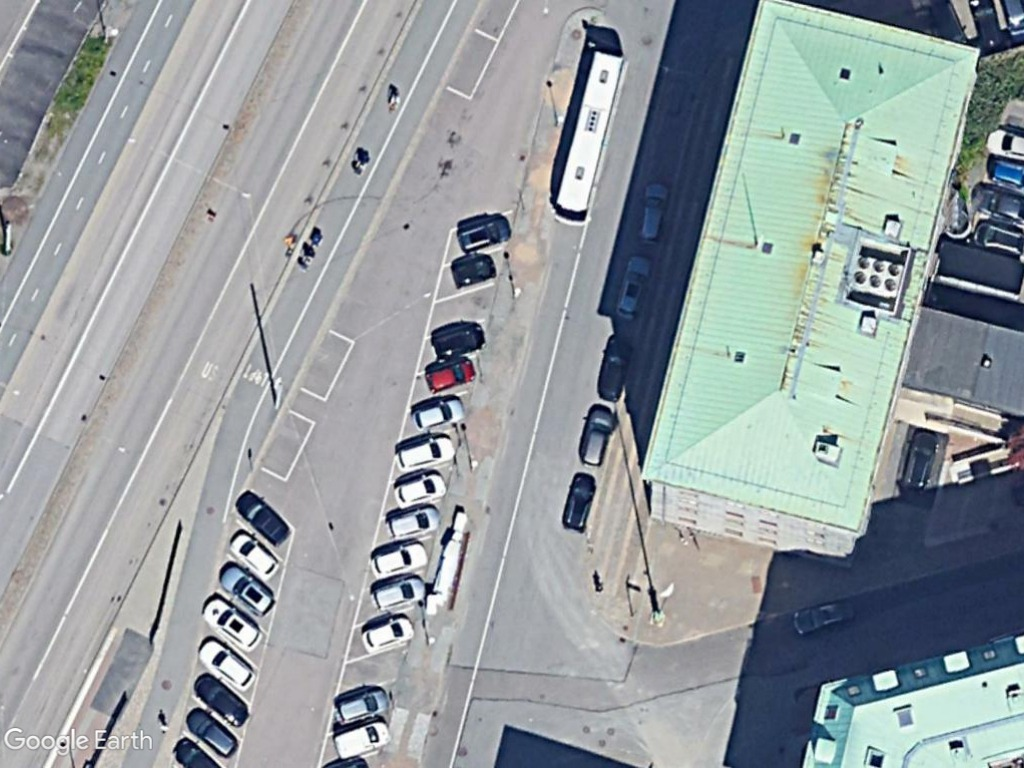bus: (544, 44, 635, 234)
car: (199, 588, 268, 654), (210, 555, 279, 620), (192, 631, 261, 693), (233, 488, 298, 548), (223, 528, 289, 587), (592, 328, 638, 411), (556, 462, 606, 538), (179, 703, 243, 762), (612, 247, 658, 325), (326, 679, 394, 730), (388, 428, 461, 475), (631, 173, 674, 252), (576, 396, 620, 472), (355, 608, 421, 657), (367, 534, 434, 581), (450, 210, 514, 259), (417, 353, 483, 399), (381, 498, 446, 543), (365, 571, 431, 614), (407, 391, 471, 432), (390, 469, 454, 510)
van: (325, 717, 401, 765)
